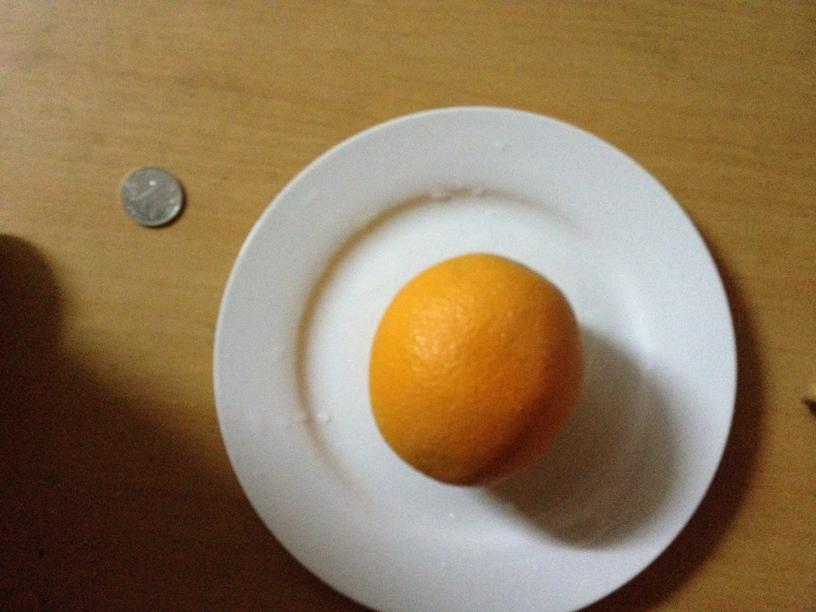coin: (121, 165, 185, 228)
orange: (372, 255, 582, 486)
